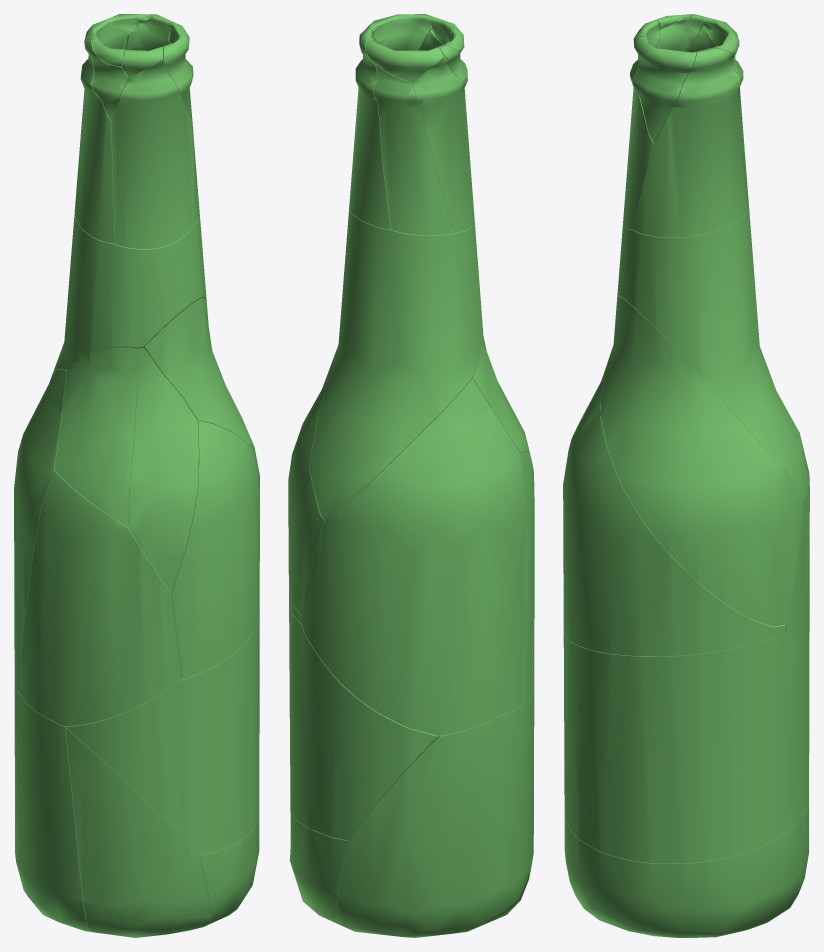
The model's file is ShardsGlassBottle1.fbx.
3 renders of one model, left to right at view 1: azimuth 30°, elevation 25°; view 2: azimuth 150°, elevation 25°; view 3: azimuth 270°, elevation 25°, orthographic.
Visible parts, largest first — view 1: Circle_cell.015, Circle_cell.004, Circle_cell.019, Circle_cell.008, Circle_cell.005, Circle_cell.007, Circle_cell.002, Circle_cell.003, Circle_cell.017, Circle_cell.009, Circle_cell.016, Circle_cell.013 (+6 smaller); view 2: Circle_cell.009, Circle_cell.002, Circle_cell.005, Circle_cell.004, Circle_cell.018, Circle_cell.013, Circle_cell.015, Circle_cell.011, Circle_cell.016, Circle_cell, Circle_cell.017, Circle_cell.014 (+2 smaller); view 3: Circle_cell.004, Circle_cell.016, Circle_cell.008, Circle_cell.005, Circle_cell, Circle_cell.011, Circle_cell.010, Circle_cell.007, Circle_cell.009, Circle_cell.001, Circle_cell.014, Circle_cell.003.
Boxes of the visible parts, left/top/right/bottom form: Circle_cell.015: left=18, top=471, right=181, bottom=726; Circle_cell.004: left=64, top=605, right=259, bottom=854; Circle_cell.019: left=65, top=728, right=210, bottom=937; Circle_cell.008: left=171, top=420, right=259, bottom=679; Circle_cell.005: left=53, top=210, right=206, bottom=372; Circle_cell.007: left=111, top=60, right=193, bottom=249; Circle_cell.002: left=14, top=685, right=88, bottom=931; Circle_cell.003: left=128, top=347, right=198, bottom=592; Circle_cell.017: left=55, top=347, right=137, bottom=526; Circle_cell.009: left=14, top=369, right=66, bottom=691; Circle_cell.016: left=144, top=297, right=257, bottom=462; Circle_cell.013: left=75, top=41, right=115, bottom=243; Circle_cell.009: left=300, top=378, right=525, bottom=735; Circle_cell.002: left=337, top=692, right=533, bottom=937; Circle_cell.005: left=309, top=207, right=482, bottom=520; Circle_cell.004: left=289, top=604, right=534, bottom=840; Circle_cell.018: left=373, top=65, right=453, bottom=235; Circle_cell.013: left=412, top=55, right=474, bottom=232; Circle_cell.015: left=495, top=451, right=534, bottom=717; Circle_cell.011: left=349, top=28, right=391, bottom=229; Circle_cell.016: left=288, top=368, right=329, bottom=615; Circle_cell: left=289, top=806, right=347, bottom=924; Circle_cell.017: left=471, top=319, right=529, bottom=452; Circle_cell.014: left=365, top=36, right=443, bottom=82; Circle_cell.004: left=563, top=631, right=809, bottom=863; Circle_cell.016: left=600, top=296, right=804, bottom=626; Circle_cell.008: left=563, top=403, right=785, bottom=656; Circle_cell.005: left=617, top=206, right=806, bottom=497; Circle_cell: left=565, top=801, right=808, bottom=937; Circle_cell.011: left=633, top=48, right=748, bottom=237; Circle_cell.010: left=633, top=36, right=696, bottom=142; Circle_cell.007: left=623, top=41, right=654, bottom=229; Circle_cell.009: left=786, top=428, right=809, bottom=646; Circle_cell.001: left=656, top=14, right=703, bottom=51; Circle_cell.014: left=702, top=16, right=739, bottom=56; Circle_cell.003: left=565, top=359, right=608, bottom=469.
Bounding box in the file's own units: 94.72 × 365 × 94.72.
